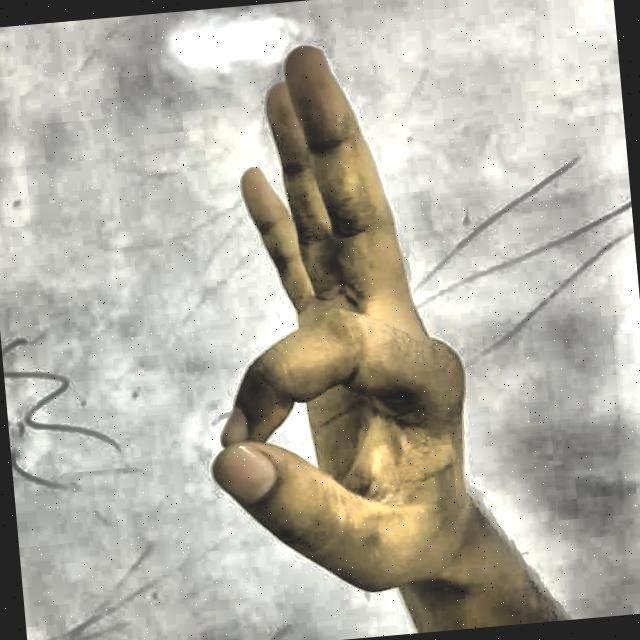Ca: (126, 8, 579, 640)
